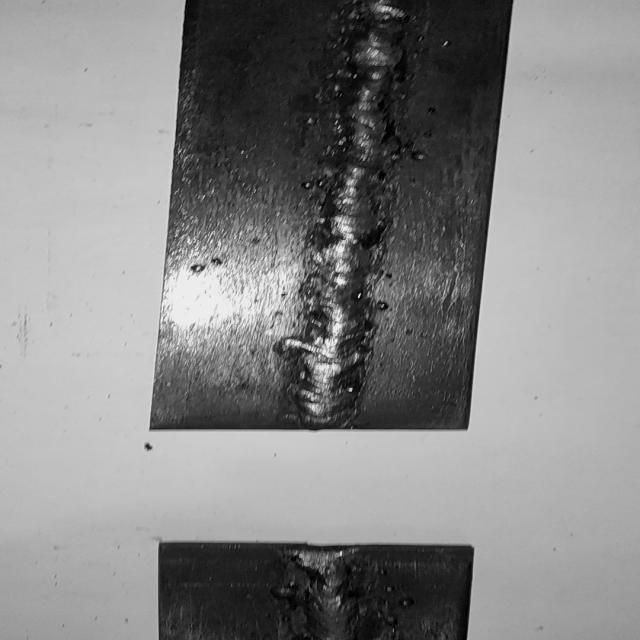Bad Weld: (286, 0, 416, 424)
Defect: (292, 552, 368, 640), (316, 2, 427, 56)
